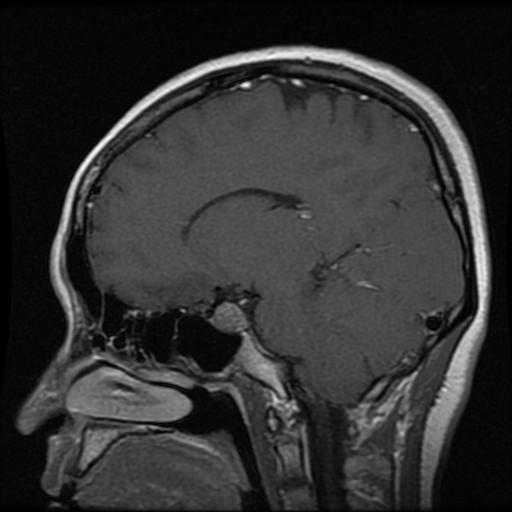Pituirity_tumour: (211, 302, 245, 330)
